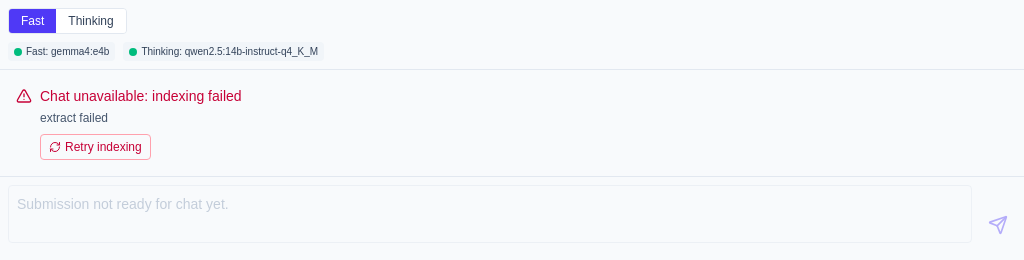
Test: AskAiTab › status='error' renders the retry CTA; clicking it POSTs /reindex and re-fetches status
Expected: the message "Chat unavailable: indexing failed extract failed Retry indexing" is shown, [16, 88, 242, 160]
Click the button with test id "ask-ai-retry-button". click: [95, 147]
box: [40, 134, 151, 160]
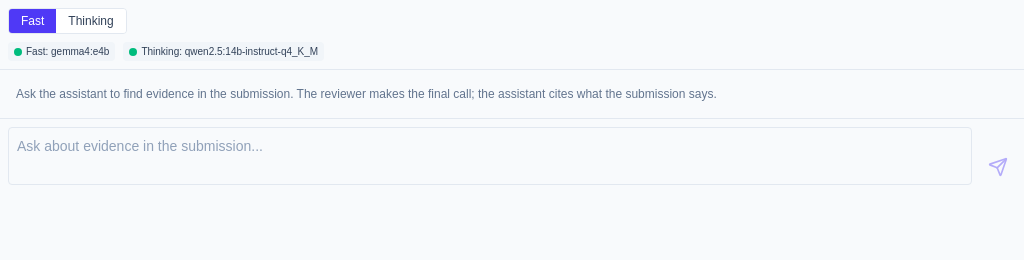
Now the message with test id "ask-ai-status-error" is gone
